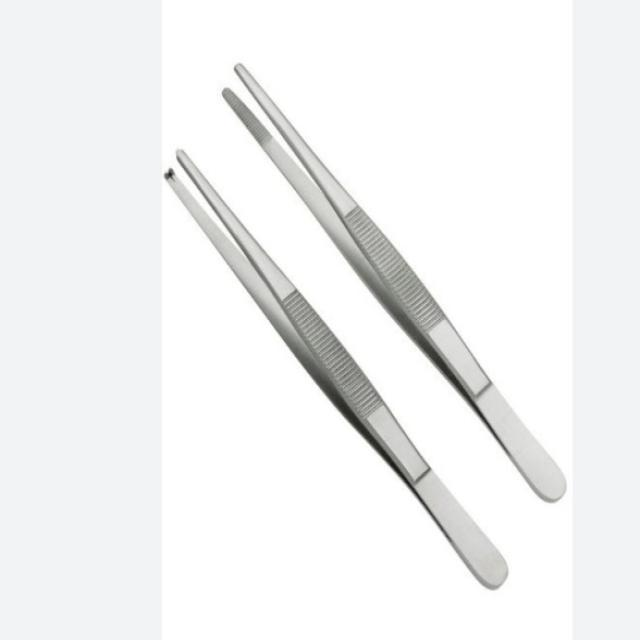Disscting Forceps -Plain-: (224, 54, 570, 506)
Disscting Forceps -tooth-: (160, 144, 512, 595)
